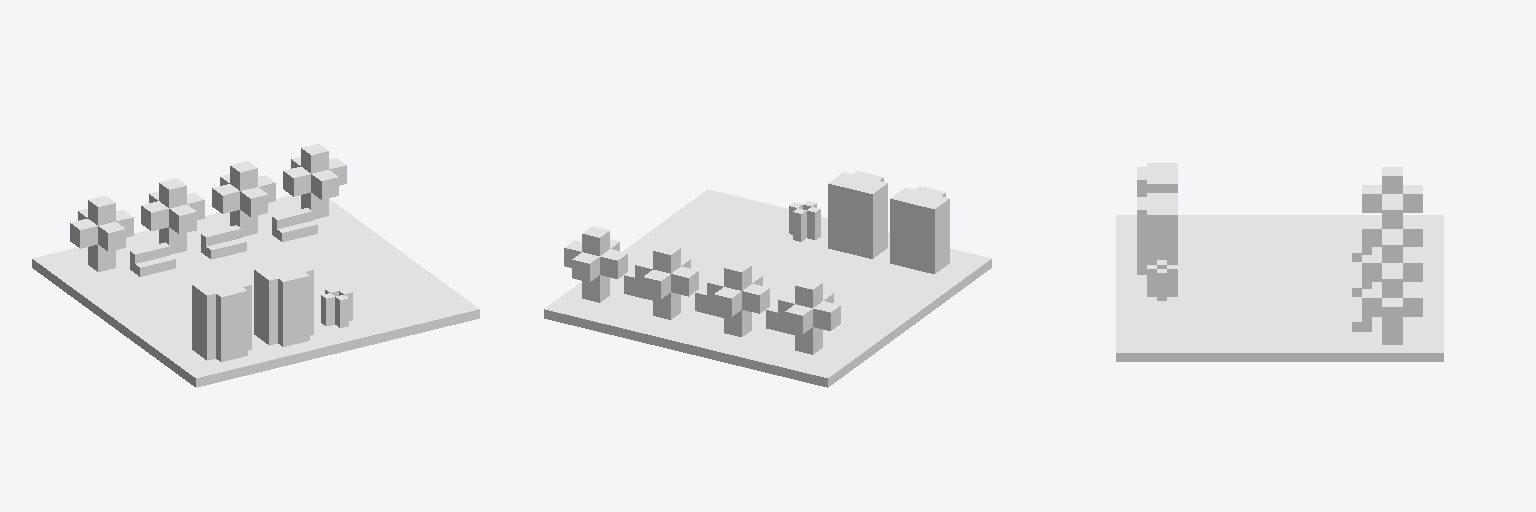
File: park.obj
3 renders of one model, left to right at view 1: azimuth 30°, elevation 25°; view 2: azimuth 150°, elevation 25°; view 3: azimuth 270°, elevation 25°, orthographic.
Visible parts, largest first — view 1: object 1; view 2: object 1; view 3: object 1.
Boxes of the visible parts, <box> form: object 1: <box>32,144,479,387</box>; object 1: <box>544,171,991,387</box>; object 1: <box>1116,163,1443,361</box>.
Bounding box in the file's own units: 3.2 × 0.8 × 3.2.